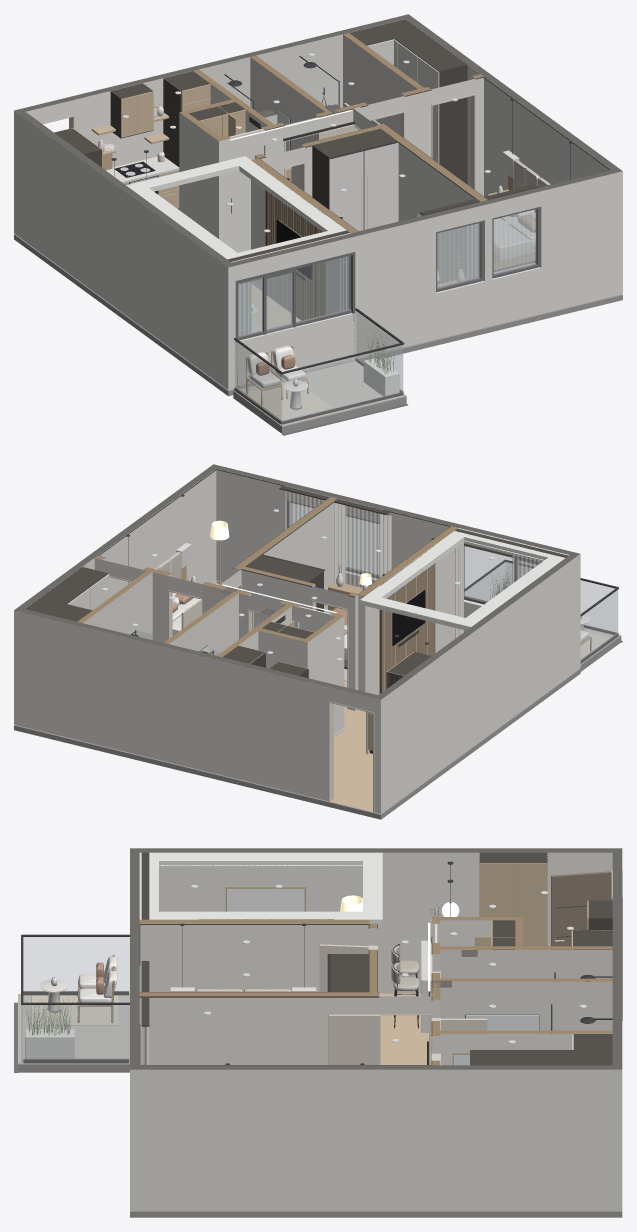
Rendered from apto-102-v4.glb.
The picture shows the model from 3 angles, top to bottom: view 1: azimuth 30°, elevation 25°; view 2: azimuth 150°, elevation 25°; view 3: azimuth 270°, elevation 25°; orthographic projection. The views are drawn at different scales.
Parts seen in each view (by area): view 1: ARQ_Muros, PRO_Muros_interiores, ILU_Revestimientos, PROP_Balcon_baranda, ARQ_Dinteles_Antepechos, MOB_Habitacion_2, APA_Cocina, MOB_Vestier, ILU_Cielo_detalles, ILU_Ventana_sala, ILU_Ventaneria, MOB_Sala (+11 smaller); view 2: ARQ_Muros, PRO_Muros_interiores, ILU_Revestimientos, ILU_Cielo_detalles, MOB_Habitacion_2, MOB_Sala, MOB_Habitacion_principal, ARQ_Losa, PROP_Balcon_baranda, ARQ_Dinteles_Antepechos, ARQ_Piso_social, MOB_Vestier (+6 smaller); view 3: ARQ_Muros, PRO_Muros_interiores, PROP_Balcon_baranda, ILU_Revestimientos, ILU_Cielo_detalles, APA_Cocina, MOB_Balcon, PROP_Balcon_losa, ARQ_Losa, MOB_Vestier, MOB_Sala, ILU_Puerta_entrada (+10 smaller).
Boxes of the visible parts, box(x1,y1,x2,y2) form: ARQ_Muros: box(14, 14, 622, 390); PRO_Muros_interiores: box(179, 33, 487, 314); ILU_Revestimientos: box(91, 34, 417, 187); PROP_Balcon_baranda: box(234, 308, 404, 424); ARQ_Dinteles_Antepechos: box(21, 97, 541, 339); MOB_Habitacion_2: box(286, 128, 479, 287); APA_Cocina: box(54, 71, 210, 209); MOB_Vestier: box(349, 19, 467, 184); ILU_Cielo_detalles: box(126, 76, 610, 262); ILU_Ventana_sala: box(238, 256, 351, 340); ILU_Ventaneria: box(436, 207, 539, 292); MOB_Sala: box(227, 173, 349, 335); ARQ_Muros: box(14, 464, 580, 813); PRO_Muros_interiores: box(77, 497, 457, 734); ILU_Revestimientos: box(83, 572, 285, 655); ILU_Cielo_detalles: box(98, 469, 569, 630); MOB_Habitacion_2: box(246, 499, 434, 681); MOB_Sala: box(379, 528, 568, 693); MOB_Habitacion_principal: box(126, 486, 346, 635); ARQ_Losa: box(14, 668, 580, 819); PROP_Balcon_baranda: box(464, 559, 618, 663); ARQ_Dinteles_Antepechos: box(285, 483, 573, 712); ARQ_Piso_social: box(334, 711, 372, 807); MOB_Vestier: box(25, 567, 109, 621); ARQ_Muros: box(130, 848, 622, 1210); PRO_Muros_interiores: box(139, 917, 612, 1065); PROP_Balcon_baranda: box(21, 934, 129, 1063); ILU_Revestimientos: box(440, 950, 612, 1033); ILU_Cielo_detalles: box(139, 852, 432, 1065); APA_Cocina: box(421, 852, 612, 1032); MOB_Balcon: box(24, 954, 118, 1058); PROP_Balcon_losa: box(14, 994, 129, 1072); ARQ_Losa: box(130, 1210, 622, 1217); MOB_Vestier: box(452, 1034, 612, 1065); MOB_Sala: box(141, 852, 362, 919); ILU_Puerta_entrada: box(551, 871, 611, 949).
Bounding box in the file's own units: 8.07 × 2.59 × 9.4.
